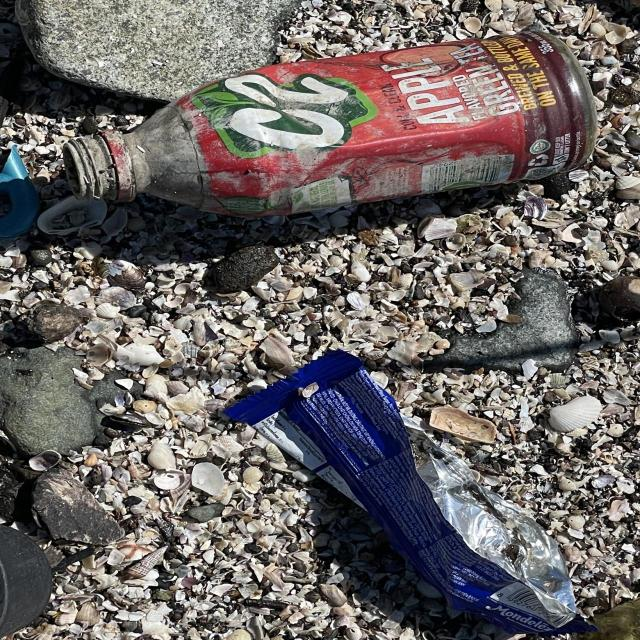plastic_waste: (222, 350, 596, 636), (64, 33, 600, 218)
